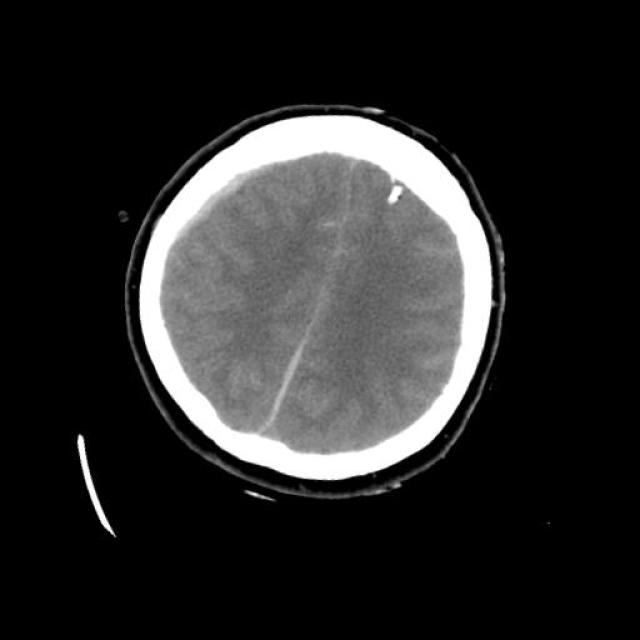Subdural: (152, 134, 290, 288), (251, 326, 323, 440)
